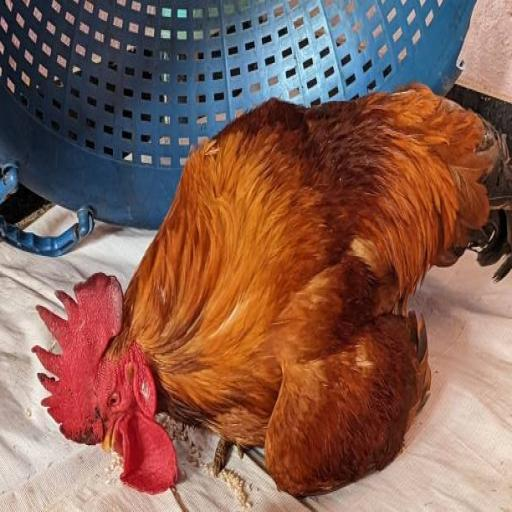disease: (56, 413, 110, 461)
